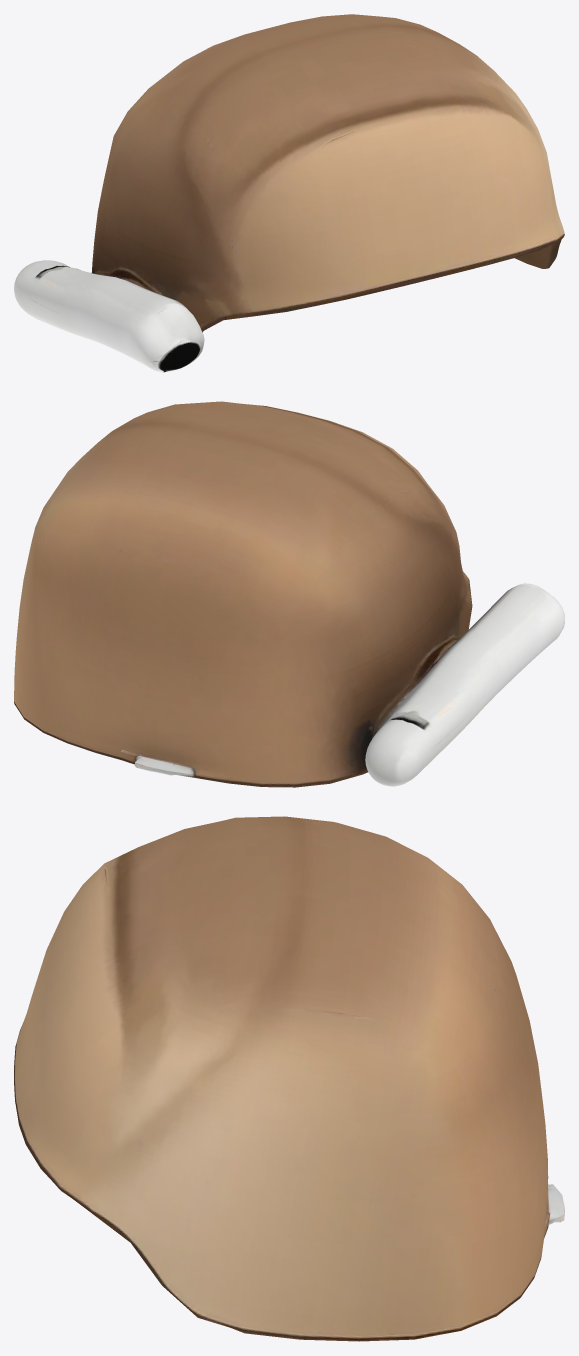
The model's file is bronze-curved-helmet.glb.
3 views of the same model, one above another, from view 1: azimuth 30°, elevation 25°; view 2: azimuth 150°, elevation 25°; view 3: azimuth 270°, elevation 25° (orthographic). The views are drawn at different scales.
Visible parts, largest first — view 1: Mesh0; view 2: Mesh0; view 3: Mesh0.
Boxes of the visible parts, <box> form: Mesh0: <box>14,14,564,372</box>; Mesh0: <box>14,401,564,787</box>; Mesh0: <box>14,816,564,1341</box>.
Size of the model in its own units: 1.9 by 1.09 by 1.5.
1 material, 1 textured.
